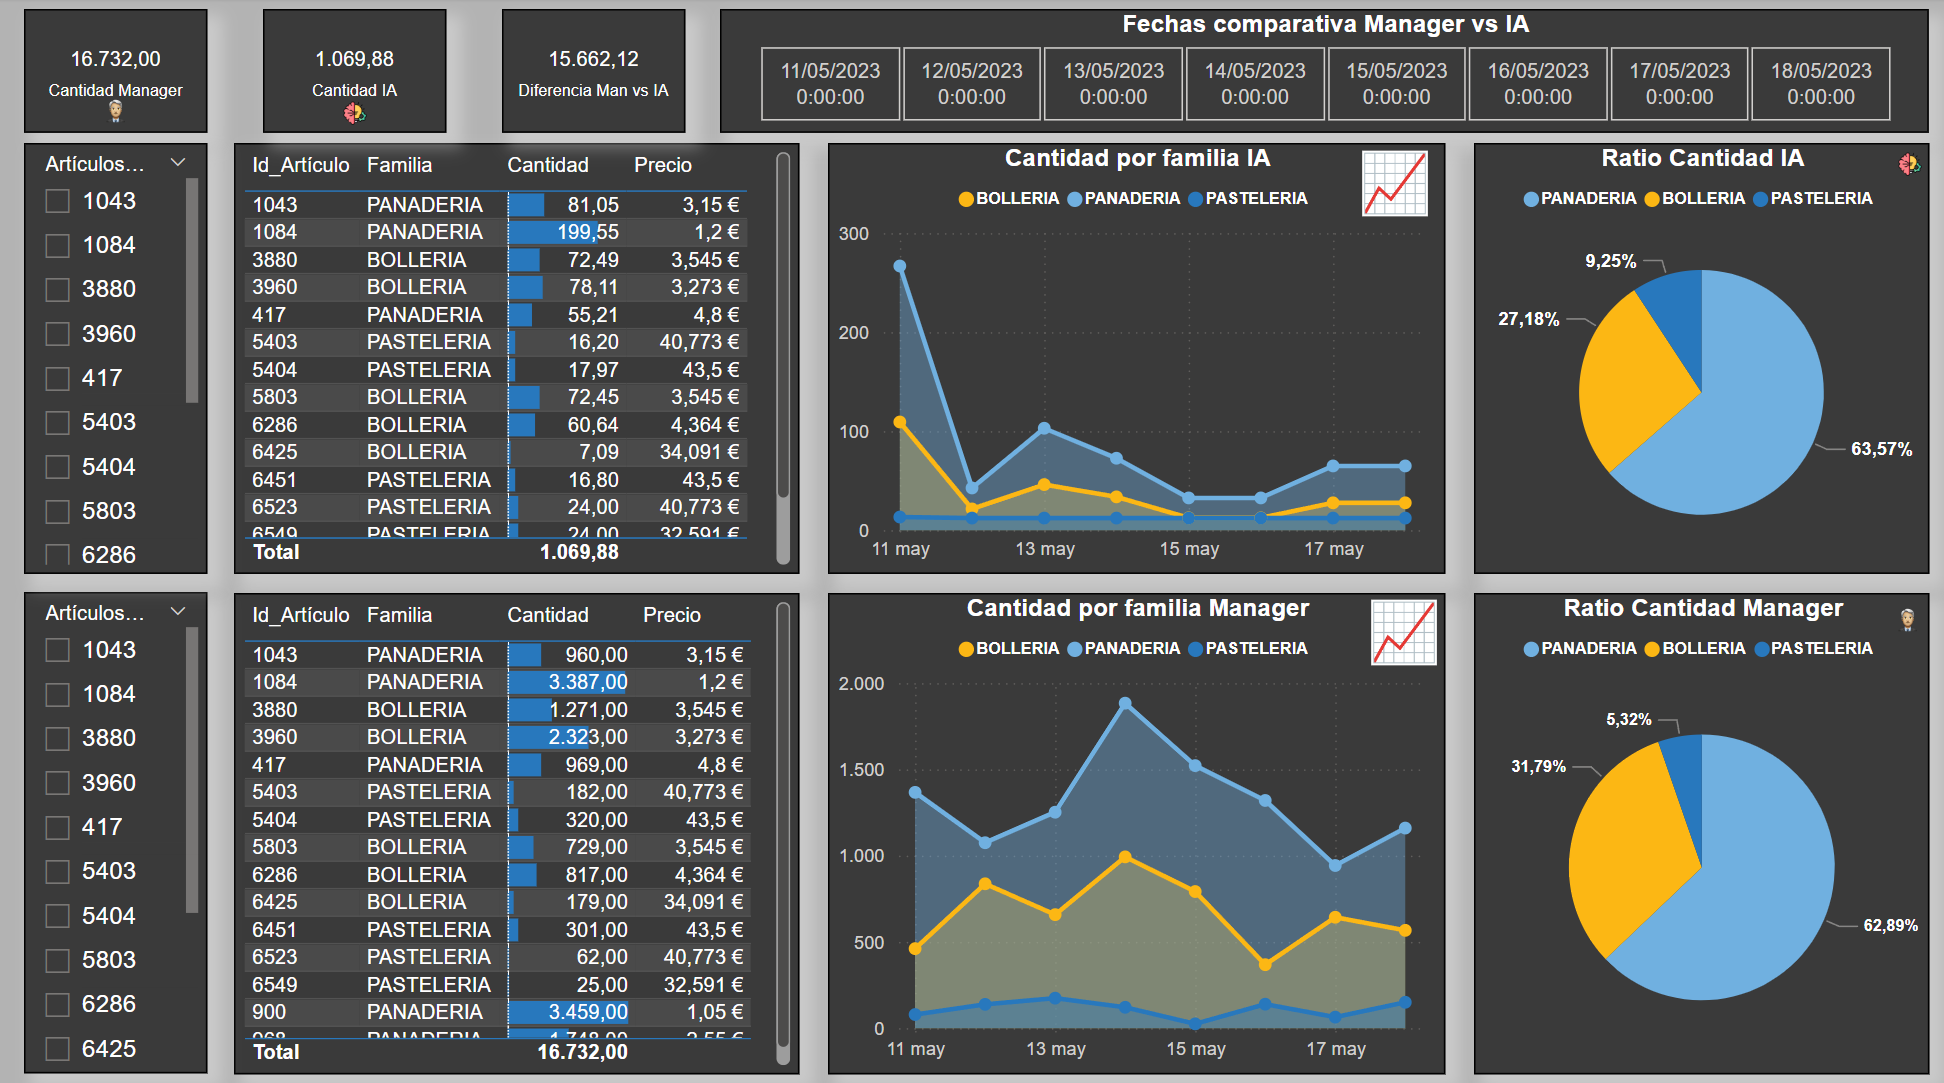

Layout of this report page (visuals, bound fields, positions):
{"tool":"powerbi","page":{"name":"Main","canvas":[1280,720],"ordinal":0},"visuals":[{"type":"slicer","title":"Fechas comparativa Manager vs IA","fields":{"Values":["Calendario.Date"]},"box":[472.6,7.4,791.1,81],"z":0},{"type":"tableEx","fields":{"Values":["Random_Fortest.articulo","Random_Fortest.familia","Sum(Random_Fortest.Cantidad)","Random_Fortest.precio"]},"box":[154.4,94.9,370.4,282],"z":1000},{"type":"tableEx","fields":{"Values":["pedidos.articulo","pedidos.familia","Sum(pedidos.cantidad)","pedidos.precio"]},"box":[154.4,389.4,370.4,314.8],"z":2000},{"type":"lineChart","title":"Cantidad por familia IA","fields":{"Category":["Random_Fortest.fecha"],"Y":["Sum(Random_Fortest.Cantidad)"],"Series":["Random_Fortest.familia"]},"box":[543.1,94.9,403.8,282],"z":3000},{"type":"lineChart","title":"Cantidad por familia Manager","fields":{"Y":["Sum(pedidos.cantidad)"],"Category":["pedidos.fecha"],"Series":["pedidos.familia"]},"box":[543.1,389.4,403.8,314.8],"z":4000},{"type":"pieChart","title":"Ratio Cantidad IA","fields":{"Y":["Sum(Random_Fortest.Cantidad)"],"Category":["Random_Fortest.familia"]},"box":[965.9,94.9,297.8,282],"z":5000},{"type":"pieChart","title":"Ratio Cantidad Manager","fields":{"Y":["Sum(pedidos.cantidad)"],"Category":["pedidos.familia"]},"box":[965.6,389.1,298.1,314.8],"z":6000},{"type":"card","fields":{"Values":["Dax Medidas.Cantidad IA"]},"box":[173.4,7.2,119.8,81.1],"z":6001},{"type":"card","fields":{"Values":["Dax Medidas.Diferencia Manager vs IA"]},"box":[329.8,7.2,119.8,81.1],"z":6002},{"type":"card","fields":{"Values":["Dax Medidas.Cantidad Manager"]},"box":[17,7.2,119.8,81.1],"z":6003},{"type":"slicer","fields":{"Values":["pedidos.articulo"]},"box":[17,388.7,119.8,314.8],"z":6004},{"type":"slicer","fields":{"Values":["Random_Fortest.articulo"]},"box":[17,94.9,119.8,282],"z":6005},{"type":"image","box":[221.2,62.8,24.9,25.5],"z":6006},{"type":"image","box":[63.5,56.3,27.5,32.1],"z":6007},{"type":"image","box":[886.7,94.9,54.3,53],"z":6008},{"type":"image","box":[892.6,388.7,54.3,53],"z":6009},{"type":"image","box":[1238.8,96.2,24.9,25.5],"z":6010},{"type":"image","box":[1236.2,389.4,27.5,32.1],"z":6011}]}

Visuals, with their boxes in screenshot pixels (x1, y1, x2, y2), scaled from the page's 1280x720 canvas onto the 1944x1083 screenshot:
"Fechas comparativa Manager vs IA" slicer: x1=718 y1=11 x2=1919 y2=133
tableEx - Random_Fortest.articulo x Random_Fortest.familia: x1=234 y1=143 x2=797 y2=567
tableEx - pedidos.articulo x pedidos.familia: x1=234 y1=586 x2=797 y2=1059
"Cantidad por familia IA" lineChart: x1=825 y1=143 x2=1438 y2=567
"Cantidad por familia Manager" lineChart: x1=825 y1=586 x2=1438 y2=1059
"Ratio Cantidad IA" pieChart: x1=1467 y1=143 x2=1919 y2=567
"Ratio Cantidad Manager" pieChart: x1=1467 y1=585 x2=1919 y2=1059
card - Dax Medidas.Cantidad IA: x1=263 y1=11 x2=445 y2=133
card - Dax Medidas.Diferencia Manager vs IA: x1=501 y1=11 x2=683 y2=133
card - Dax Medidas.Cantidad Manager: x1=26 y1=11 x2=208 y2=133
slicer - pedidos.articulo: x1=26 y1=585 x2=208 y2=1058
slicer - Random_Fortest.articulo: x1=26 y1=143 x2=208 y2=567
image: x1=336 y1=94 x2=374 y2=133
image: x1=96 y1=85 x2=138 y2=133
image: x1=1347 y1=143 x2=1429 y2=222
image: x1=1356 y1=585 x2=1438 y2=664
image: x1=1881 y1=145 x2=1919 y2=183
image: x1=1877 y1=586 x2=1919 y2=634
